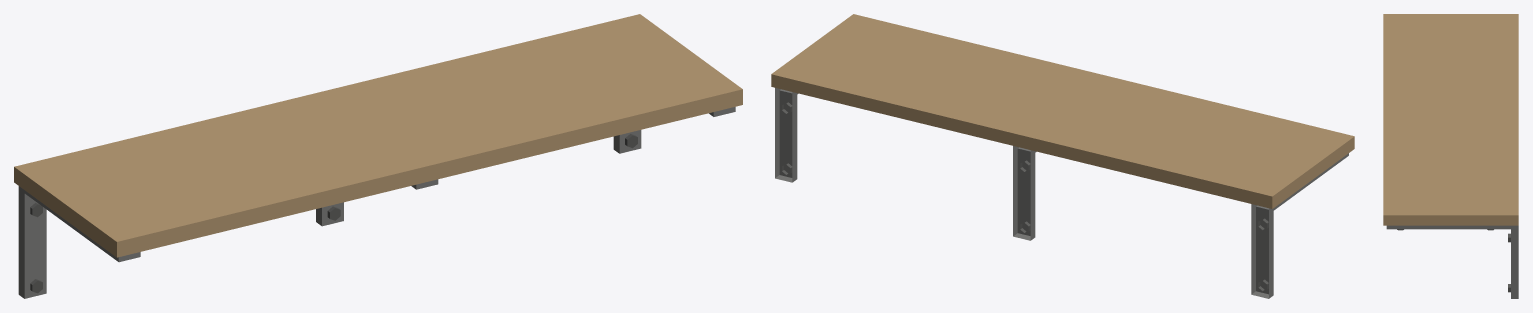
The model's file is SM_Prop_WallShelves_01.fbx.
3 renders of one model, left to right at view 1: azimuth 30°, elevation 25°; view 2: azimuth 150°, elevation 25°; view 3: azimuth 270°, elevation 25°, orthographic. The views are drawn at different scales.
Visible parts, largest first — view 1: SM_Prop_WallShelves_01; view 2: SM_Prop_WallShelves_01; view 3: SM_Prop_WallShelves_01.
Part boxes in pixels (x1=…): SM_Prop_WallShelves_01: x1=14, y1=14, x2=742, y2=298; SM_Prop_WallShelves_01: x1=771, y1=14, x2=1354, y2=298; SM_Prop_WallShelves_01: x1=1383, y1=14, x2=1518, y2=298.
Size of the model in its own units: 218 by 42.9 by 61.95.
